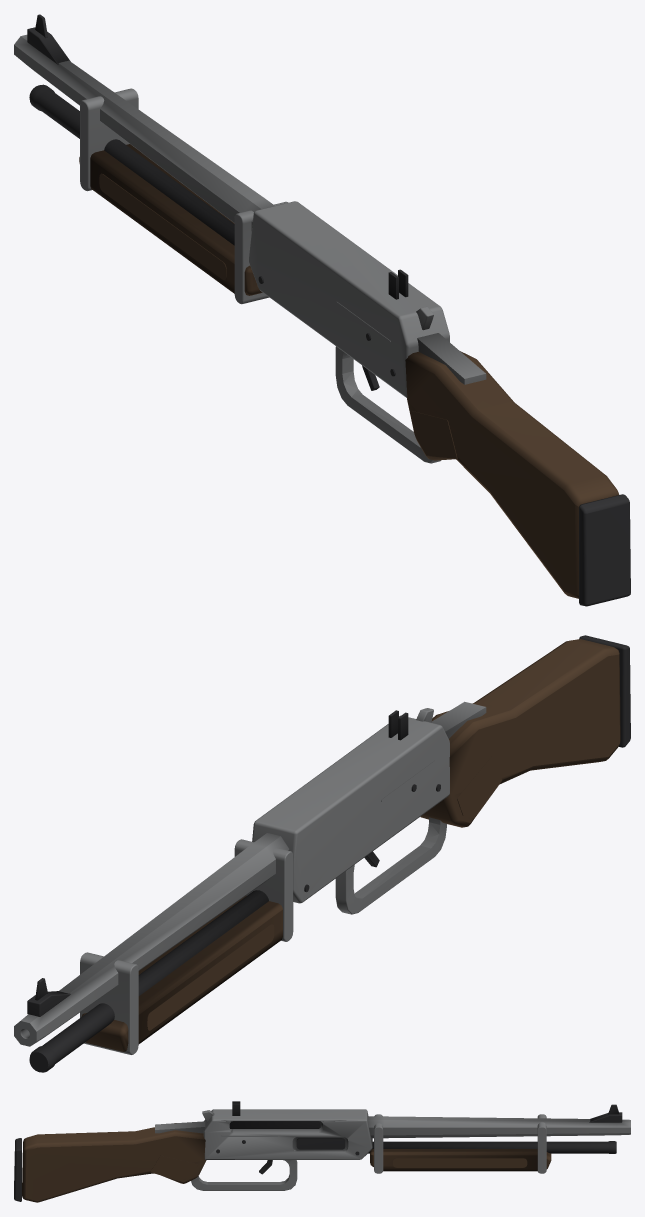
File: fieldhand_lever.glb
The picture shows the model from 3 angles, top to bottom: view 1: azimuth 30°, elevation 25°; view 2: azimuth 150°, elevation 25°; view 3: azimuth 270°, elevation 25°; orthographic projection. The views are drawn at different scales.
Parts seen in each view (by area): view 1: Stock, Receiver, Foregrip, Barrel, MagazineTube, Lever, IronSights; view 2: Stock, Receiver, Foregrip, Barrel, MagazineTube, Lever, IronSights; view 3: Stock, Receiver, Barrel, Foregrip, MagazineTube, Lever, Bolt, IronSights.
Boxes of the visible parts, x1,y1,x2,y2 form: Stock: [405, 351, 630, 606]; Receiver: [249, 201, 486, 397]; Foregrip: [79, 88, 288, 304]; Barrel: [14, 34, 274, 230]; MagazineTube: [29, 84, 234, 245]; Lever: [335, 346, 440, 463]; IronSights: [27, 14, 408, 299]; Stock: [420, 635, 630, 827]; Receiver: [252, 701, 486, 903]; Foregrip: [80, 839, 293, 1054]; Barrel: [14, 833, 289, 1046]; MagazineTube: [29, 890, 268, 1072]; Lever: [335, 817, 446, 914]; IronSights: [27, 710, 408, 1016]; Stock: [14, 1123, 206, 1202]; Receiver: [155, 1109, 372, 1159]; Barrel: [368, 1116, 630, 1138]; Foregrip: [370, 1114, 551, 1173]; MagazineTube: [368, 1141, 616, 1153]; Lever: [191, 1160, 297, 1190]; Bolt: [202, 1110, 320, 1128]; IronSights: [232, 1101, 622, 1122].
Size of the model in its own units: 0.054 by 0.183 by 1.08.
